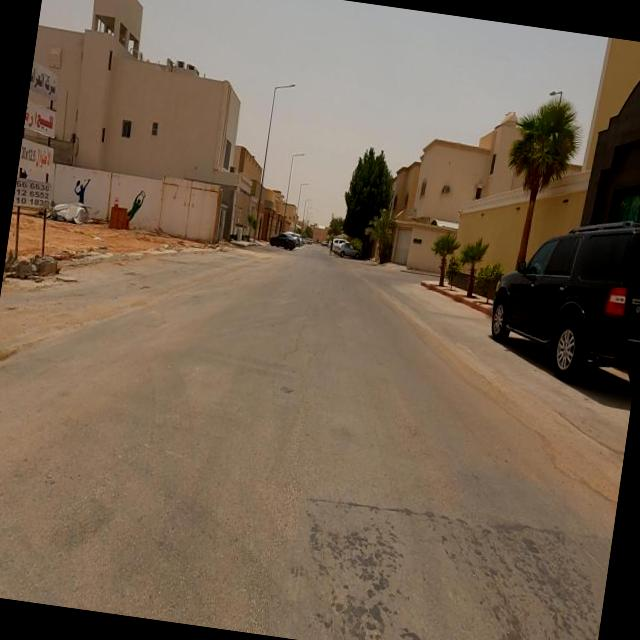debris: (0, 0, 101, 314), (26, 166, 126, 272)
